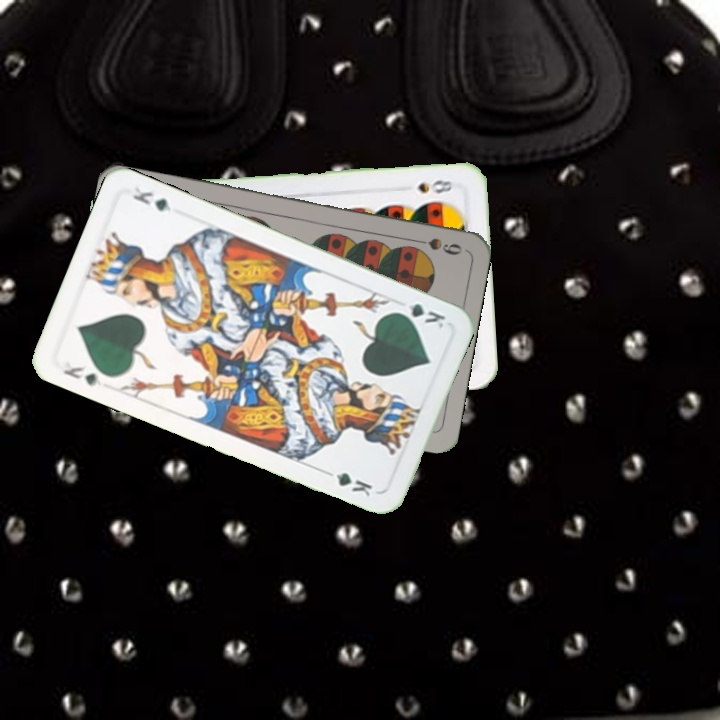GK: (391, 299, 449, 331), (58, 361, 104, 389)
S8: (414, 176, 455, 196)
S9: (407, 233, 465, 258)
